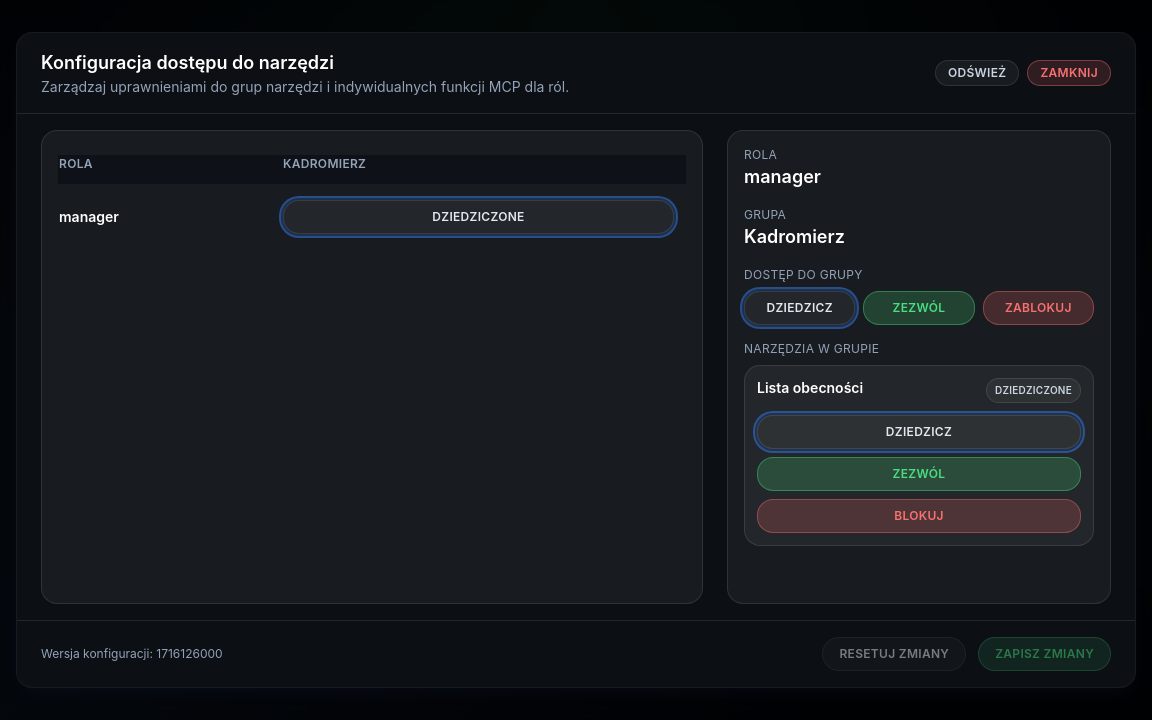
Scenario: ToolAccessAdminModal › allows toggling group permission state and marks pending changes
This screenshot has width=1152, height=720.
Expected: the text "Konfiguracja dostępu do narzędzi" is shown, 41,52 -> 334,73
Click the button "Dziedziczone": (478, 217) 283,200 -> 674,234
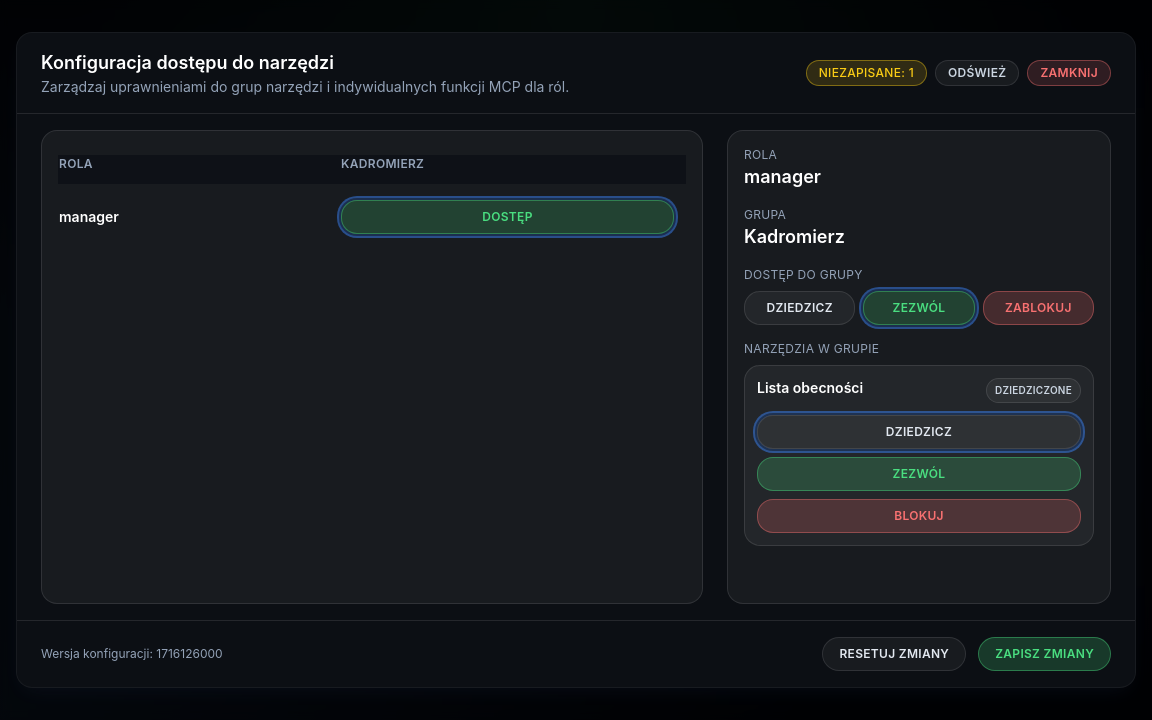
Now the button "Dostęp" is shown, box 341,200 -> 674,234
Now the text "Niezapisane: 1" is shown, box 806,60 -> 927,86
